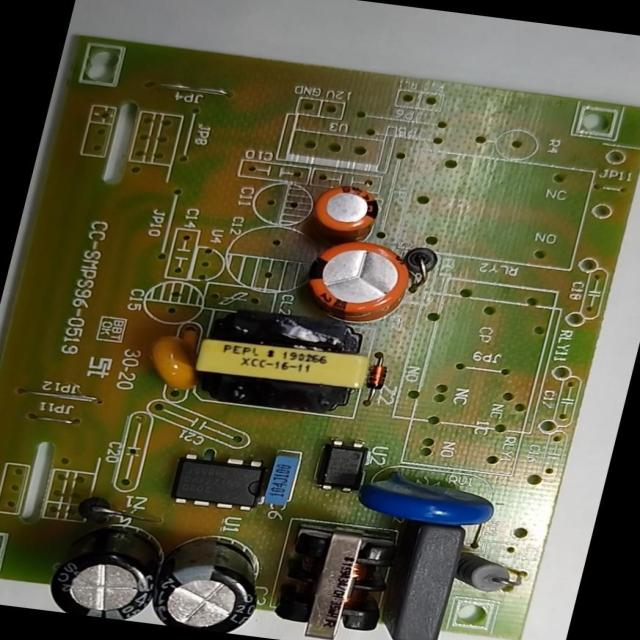Cap1: (281, 229, 429, 333)
Cap2: (294, 172, 392, 246)
Cap3: (133, 522, 276, 636)
Cap4: (36, 507, 180, 624)
MOSFET: (159, 444, 279, 518)
Mov: (344, 460, 509, 534)
Resistor: (452, 545, 534, 604)
Transformer: (166, 297, 389, 423), (262, 516, 408, 639)
